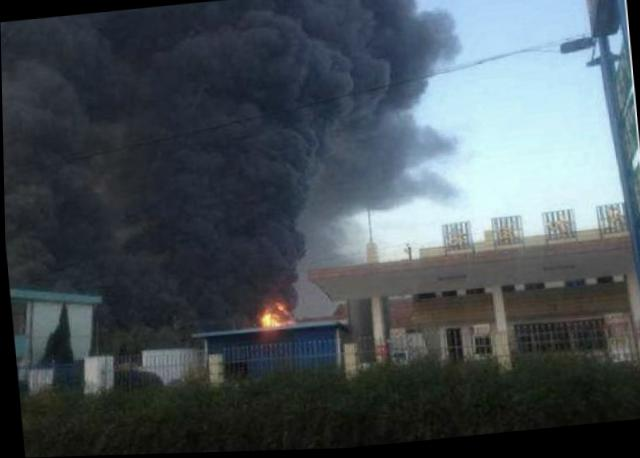fire: (259, 302, 291, 330)
smoke: (0, 0, 474, 267), (103, 238, 317, 308)
